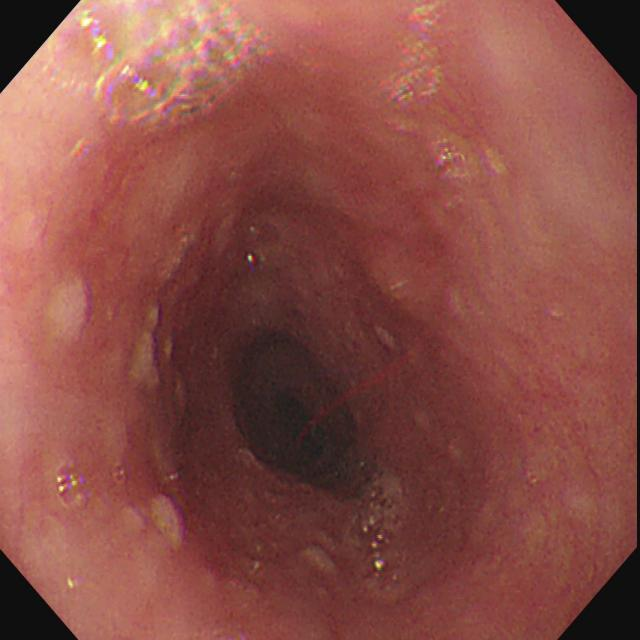E: (206, 310, 380, 516)
J: (130, 303, 180, 391), (290, 527, 351, 594), (143, 483, 194, 562), (48, 274, 96, 356)
T: (51, 2, 277, 142), (382, 4, 448, 107), (356, 461, 405, 588), (53, 459, 92, 515), (431, 136, 472, 186)
